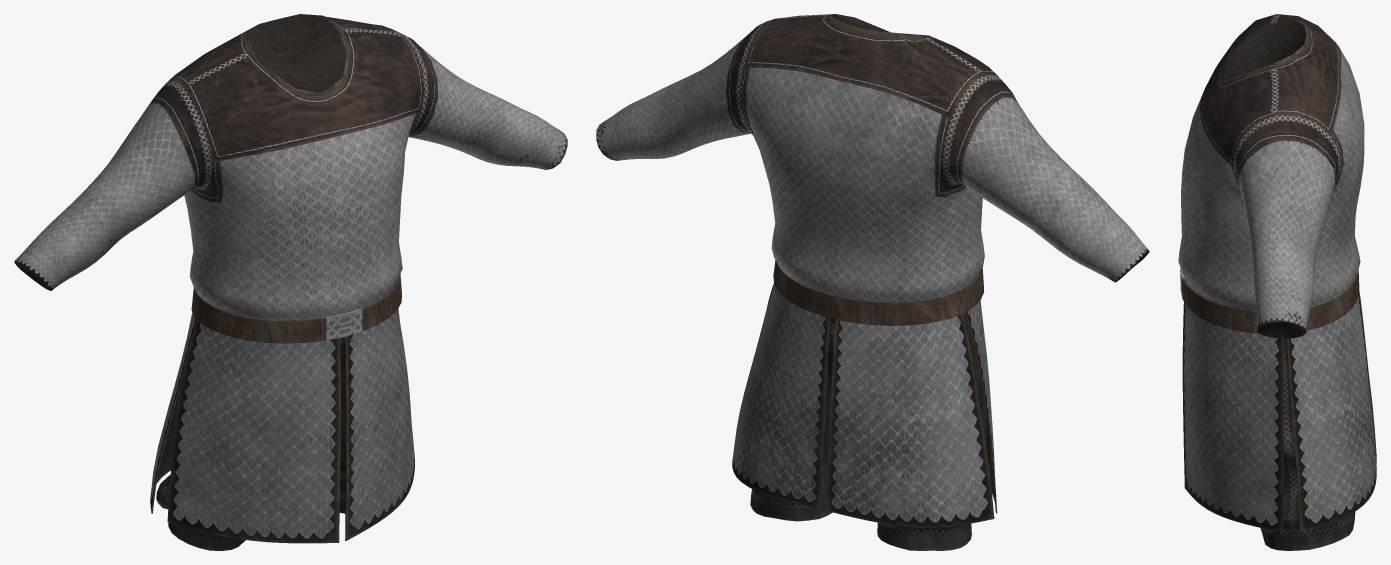
The model's file is sk_dwarf_erebor_chest_scale_a.fbx.
3 renders of one model, left to right at view 1: azimuth 30°, elevation 25°; view 2: azimuth 150°, elevation 25°; view 3: azimuth 270°, elevation 25°, orthographic. The views are drawn at different scales.
Parts seen in each view (by area): view 1: sk_dwarf_erebor_chest_scale_a.1, sk_dwarf_erebor_chest_scale_a.0; view 2: sk_dwarf_erebor_chest_scale_a.1, sk_dwarf_erebor_chest_scale_a.0; view 3: sk_dwarf_erebor_chest_scale_a.1, sk_dwarf_erebor_chest_scale_a.0.
Boxes of the visible parts, x1,y1,x2,y2 form: sk_dwarf_erebor_chest_scale_a.1: (14, 14, 567, 543); sk_dwarf_erebor_chest_scale_a.0: (156, 338, 345, 550); sk_dwarf_erebor_chest_scale_a.1: (596, 14, 1149, 527); sk_dwarf_erebor_chest_scale_a.0: (750, 314, 986, 550); sk_dwarf_erebor_chest_scale_a.1: (1178, 14, 1376, 531); sk_dwarf_erebor_chest_scale_a.0: (1260, 338, 1355, 550).
Bounding box in the file's own units: 1.16 × 0.3892 × 1.02.
2 materials, 2 textured.
